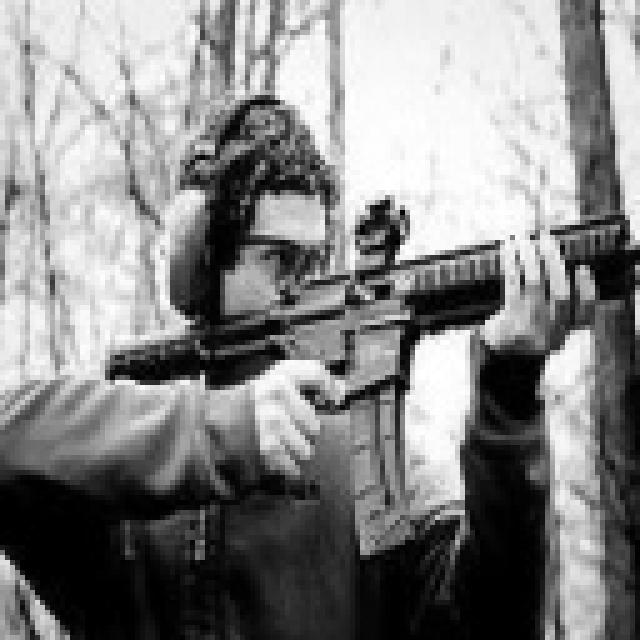Rifle: (91, 170, 621, 542)
